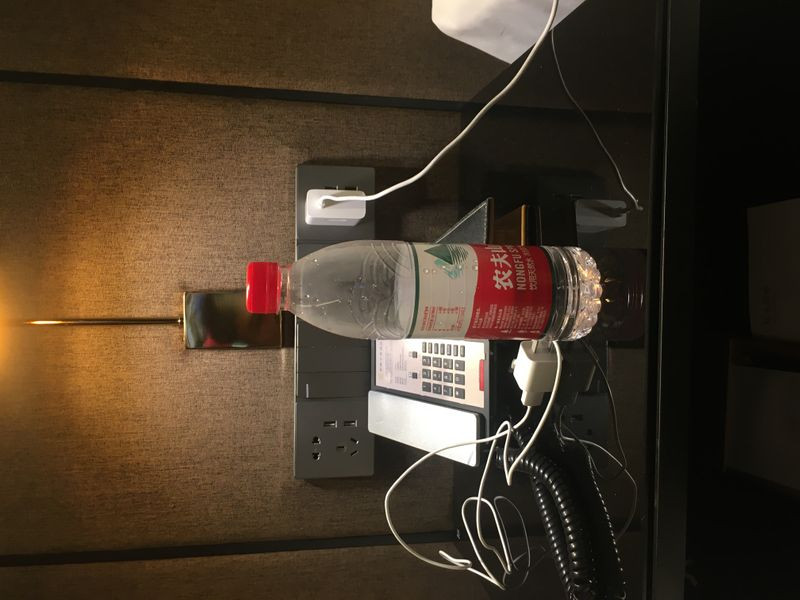5eca67a90202601e8cb8d104: (240, 237, 608, 343)
